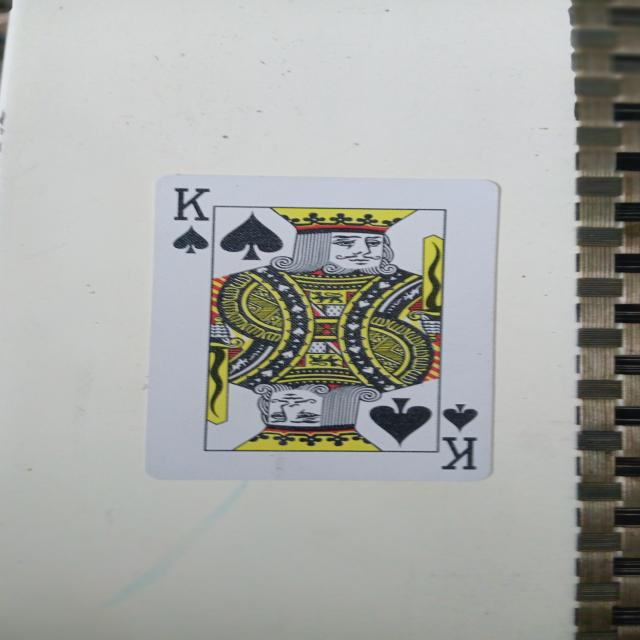KS: (148, 167, 498, 487)
